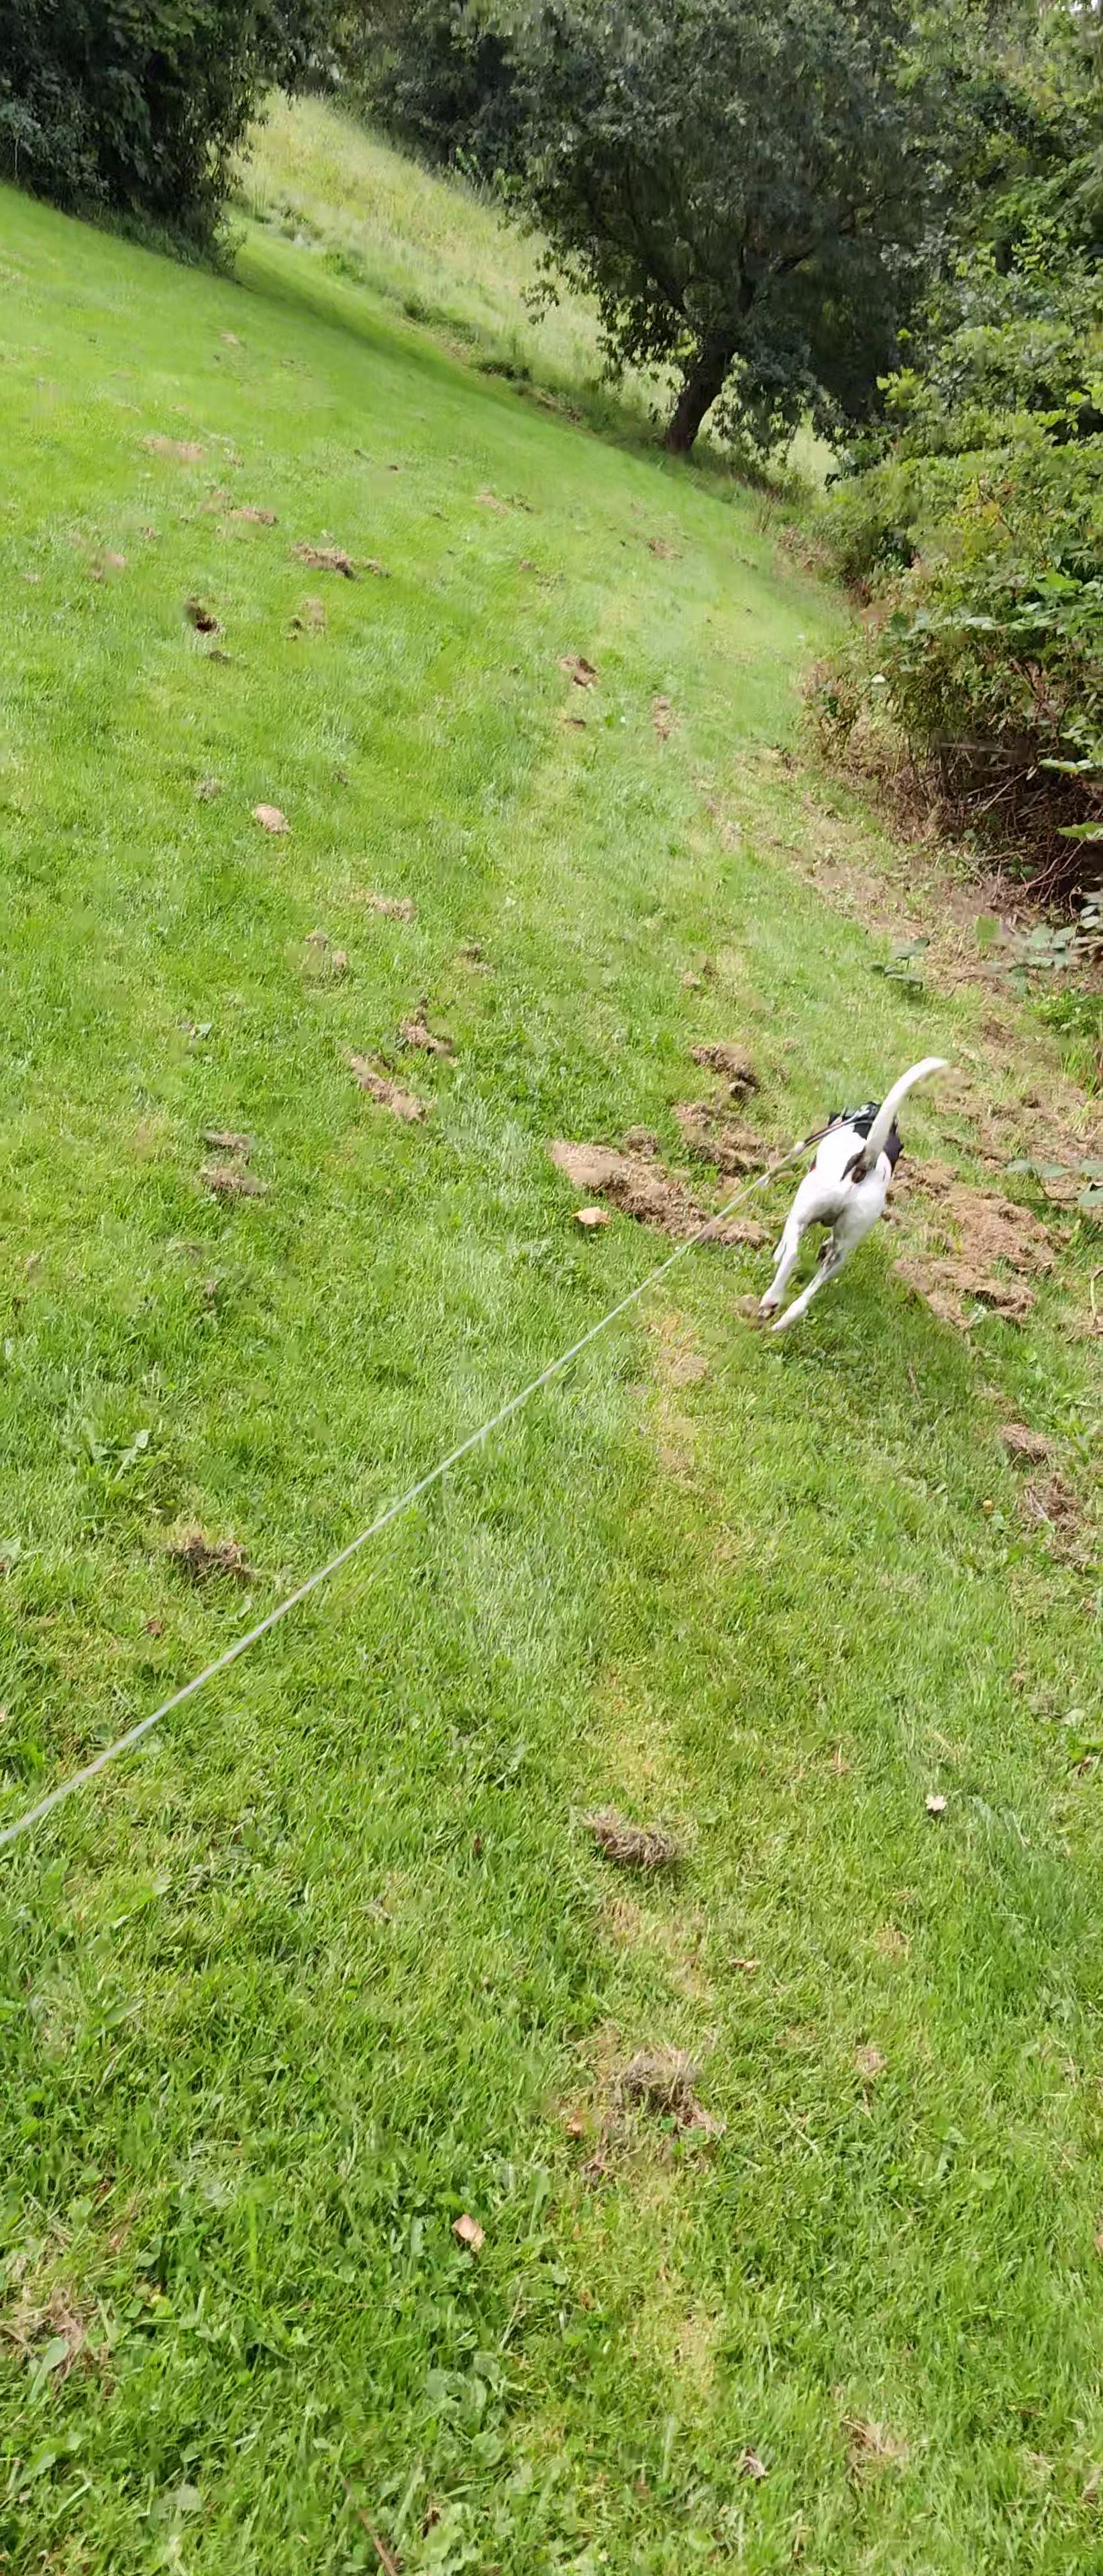Dog: (748, 1035, 947, 1344)
